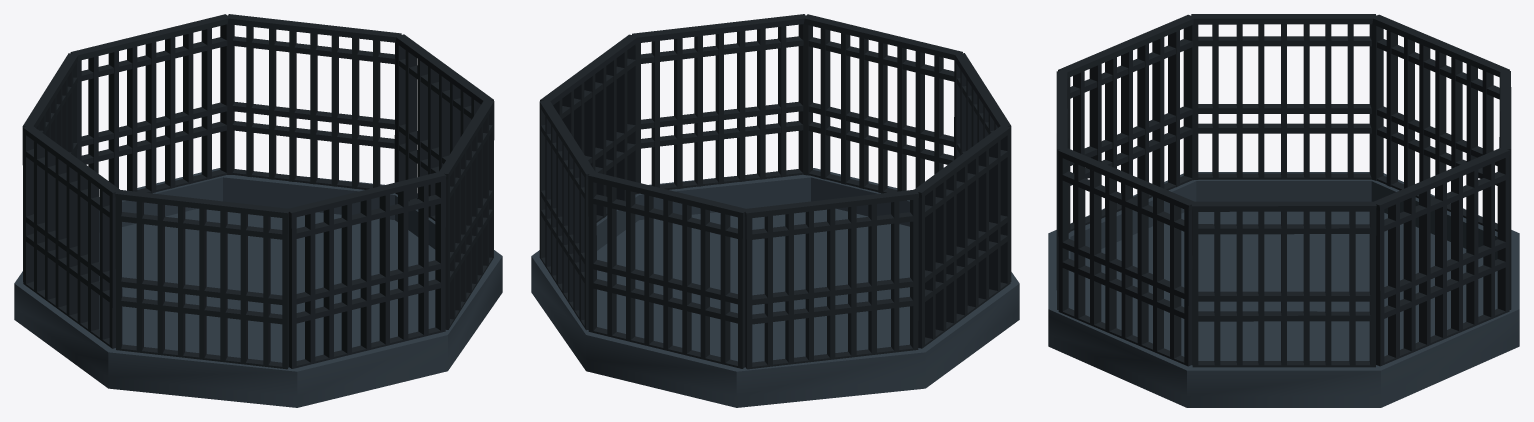
File: SM_DogCage.fbx
3 renders of one model, left to right at view 1: azimuth 30°, elevation 25°; view 2: azimuth 150°, elevation 25°; view 3: azimuth 270°, elevation 25°, orthographic. The views are drawn at different scales.
Parts seen in each view (by area): view 1: SM_Cage, SM_CageBottem; view 2: SM_Cage, SM_CageBottem; view 3: SM_Cage, SM_CageBottem.
Part boxes in pixels (box(x1,y1,x2,y2)): SM_Cage: box(22, 14, 494, 369); SM_CageBottem: box(14, 168, 502, 407); SM_Cage: box(539, 14, 1011, 369); SM_CageBottem: box(531, 168, 1019, 407); SM_Cage: box(1056, 14, 1511, 367); SM_CageBottem: box(1048, 172, 1519, 407).
Size of the model in its own units: 164 by 76.49 by 164.
1 material, 1 textured.
